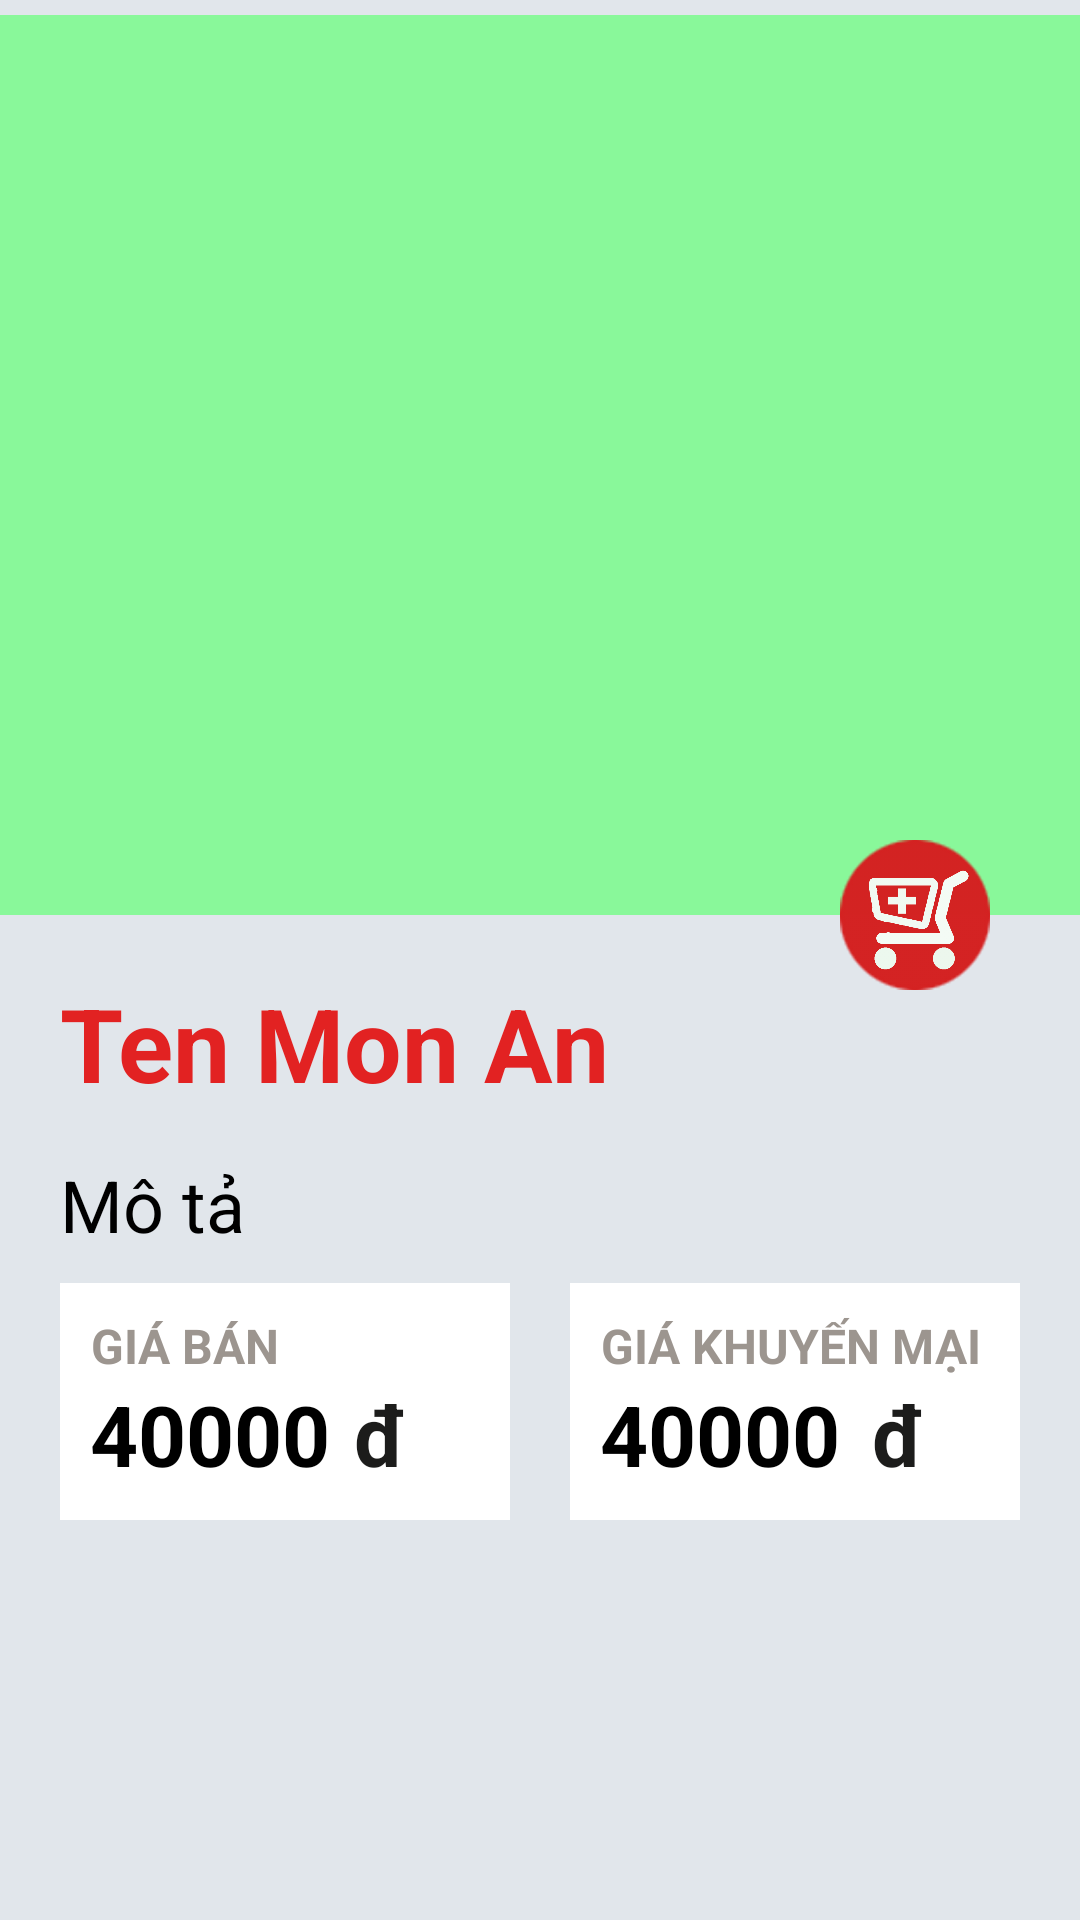

Icon click points for this 1080px×1920px phone screenshot, format [x,y]:
order: [915,915]
